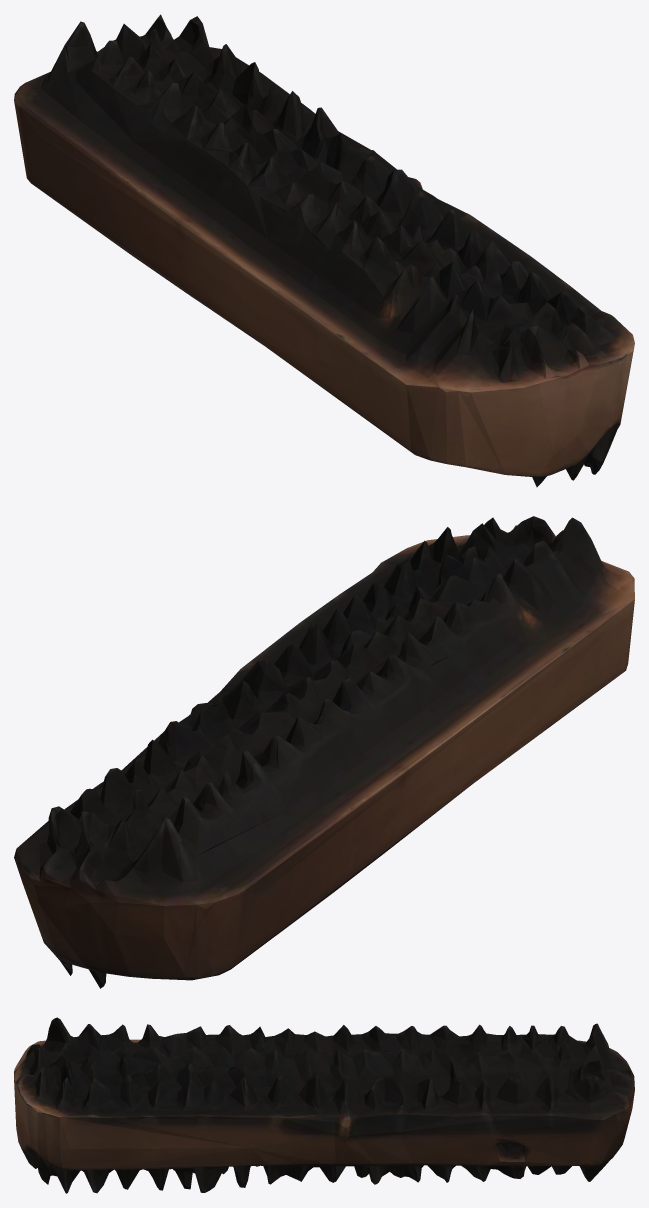
The picture shows the model from 3 angles, top to bottom: view 1: azimuth 30°, elevation 25°; view 2: azimuth 150°, elevation 25°; view 3: azimuth 270°, elevation 25°; orthographic projection. The views are drawn at different scales.
Parts seen in each view (by area): view 1: geometry_0; view 2: geometry_0; view 3: geometry_0.
Part boxes in pixels (left/top/right/bottom): geometry_0: left=14, top=14, right=634, bottom=487; geometry_0: left=14, top=516, right=634, bottom=988; geometry_0: left=14, top=1017, right=634, bottom=1193.
Bounding box in the file's own units: 0.29 × 0.2363 × 0.9981.
Materials: 1 (1 with a texture image).
